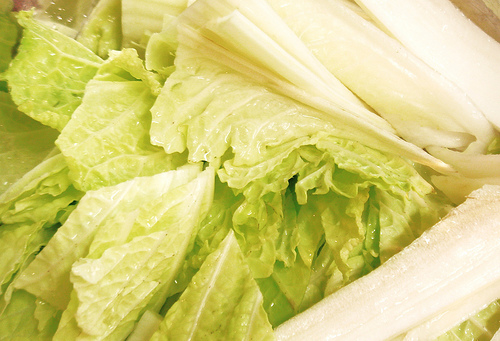cabbage: (1, 1, 499, 340)
